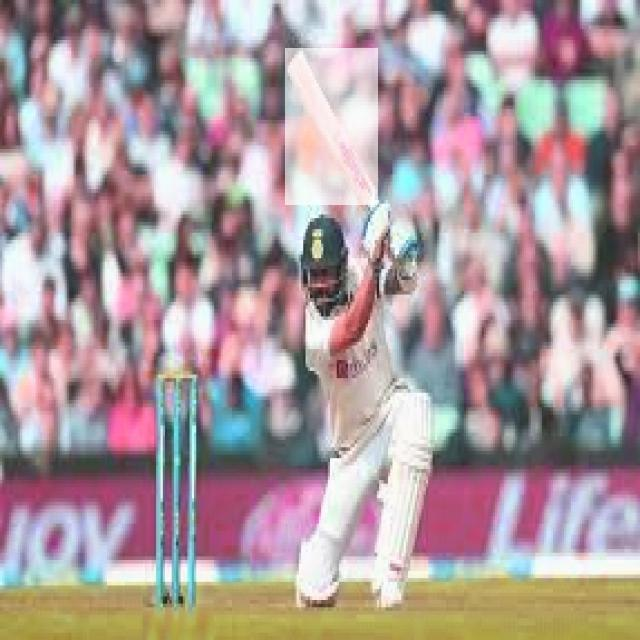bat: (285, 48, 378, 204)
toe: (284, 50, 315, 77)
